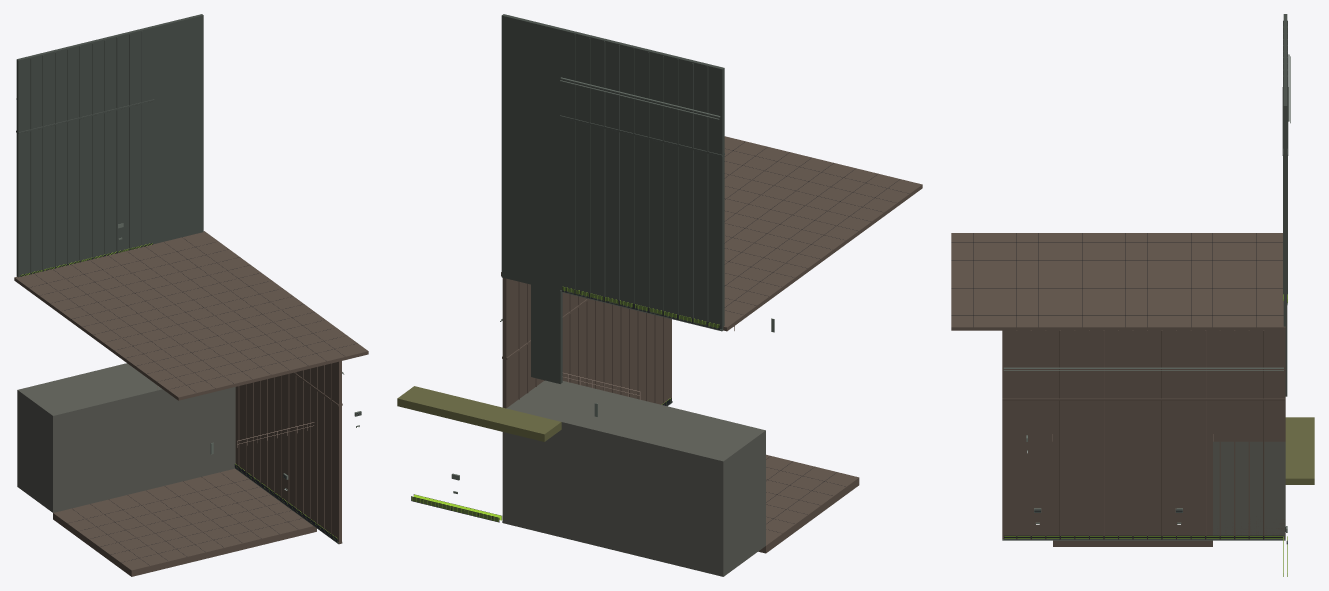
3 renders of one model, left to right at view 1: azimuth 30°, elevation 25°; view 2: azimuth 150°, elevation 25°; view 3: azimuth 270°, elevation 25°, orthographic. The views are drawn at different scales.
Visible parts, largest first — view 1: pm1_m5; view 2: pm1_m5; view 3: pm1_m5.
Boxes of the visible parts, x1=… form: pm1_m5: x1=14, y1=14, x2=368, y2=576; pm1_m5: x1=397, y1=14, x2=922, y2=576; pm1_m5: x1=951, y1=14, x2=1314, y2=576.
Bounding box in the file's own units: 42.75 × 67 × 50.
